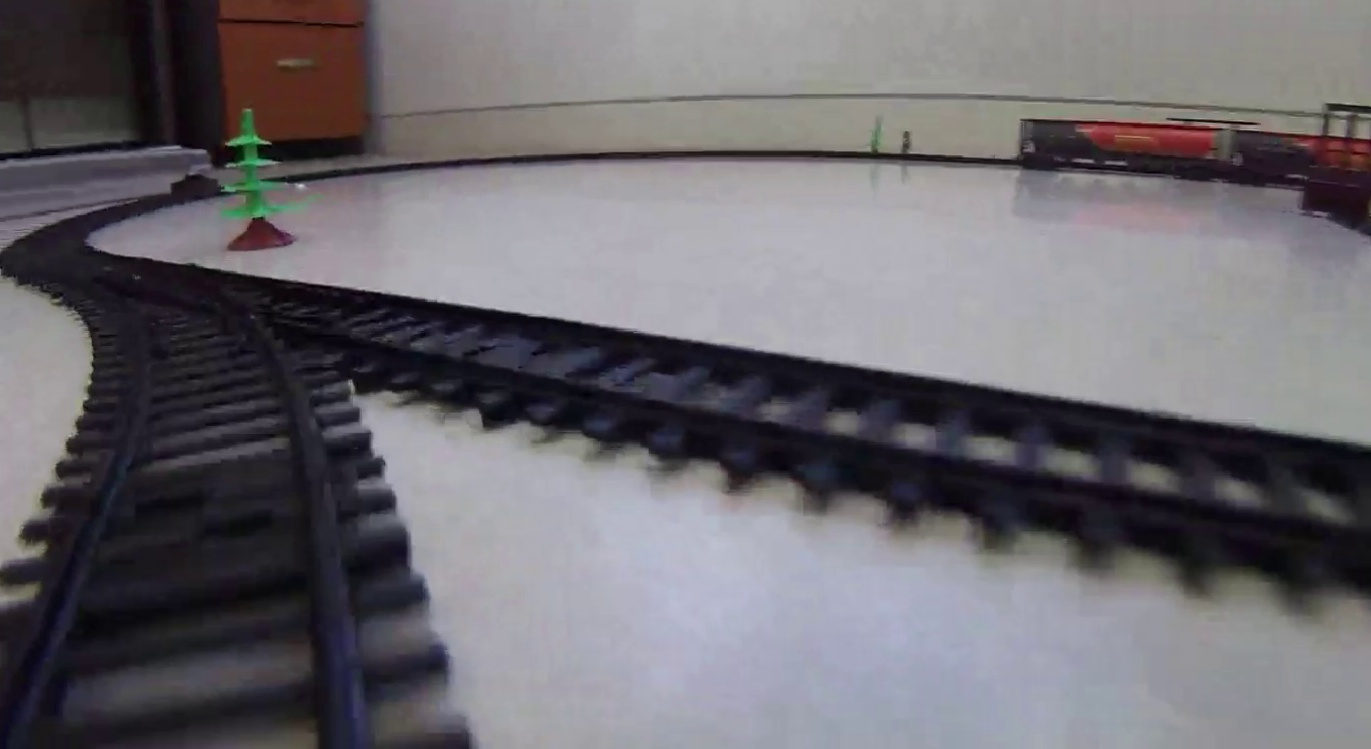tree: (218, 107, 297, 248)
